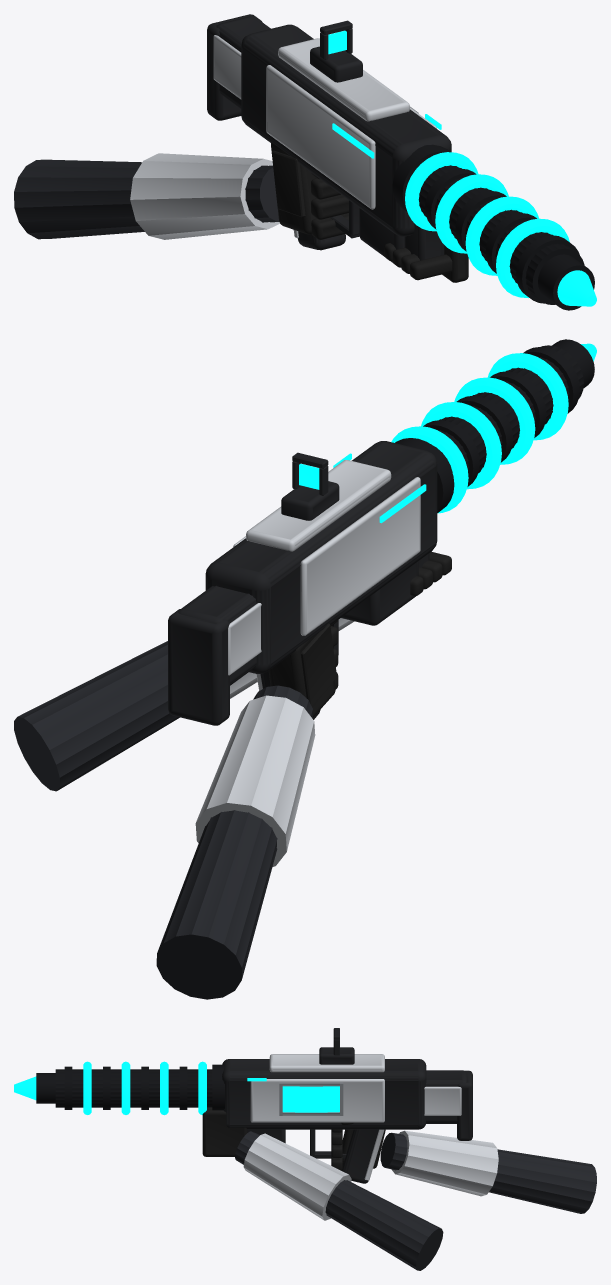
File: gun_pulse.glb
3 views of the same model, one above another, from view 1: azimuth 30°, elevation 25°; view 2: azimuth 150°, elevation 25°; view 3: azimuth 270°, elevation 25° (orthographic). The views are drawn at different scales.
Parts seen in each view (by area): view 1: Body, Armor_Plates, Forearm_R, Gauntlet_R, Barrel_Shroud, Glove_R, Glow_Accents, Glove_L, Ring_1, Ring_4, Ring_2, Ring_3; view 2: Body, Forearm_R, Armor_Plates, Forearm_L, Gauntlet_R, Barrel_Shroud, Glove_R, Ring_3, Ring_4, Ring_2, Ring_1, Glow_Accents (+1 smaller); view 3: Body, Armor_Plates, Barrel_Shroud, Forearm_L, Forearm_R, Gauntlet_R, Gauntlet_L, Glove_L, Screen, Glove_R, Screen_Bezel, Ring_3 (+4 smaller).
Part boxes in pixels (left/top/right/bottom): Body: left=207, top=14, right=451, bottom=262; Armor_Plates: left=213, top=35, right=436, bottom=238; Forearm_R: left=14, top=159, right=279, bottom=239; Gauntlet_R: left=130, top=153, right=279, bottom=239; Barrel_Shroud: left=392, top=144, right=594, bottom=310; Glove_R: left=271, top=142, right=348, bottom=239; Glow_Accents: left=328, top=30, right=596, bottom=306; Glove_L: left=384, top=243, right=468, bottom=282; Ring_1: left=405, top=152, right=478, bottom=231; Ring_4: left=496, top=218, right=569, bottom=298; Ring_2: left=435, top=174, right=508, bottom=253; Ring_3: left=465, top=196, right=538, bottom=275; Body: left=168, top=441, right=437, bottom=725; Forearm_R: left=156, top=685, right=312, bottom=999; Armor_Plates: left=228, top=460, right=420, bottom=690; Forearm_L: left=14, top=641, right=179, bottom=791; Gauntlet_R: left=195, top=695, right=315, bottom=866; Barrel_Shroud: left=395, top=339, right=594, bottom=512; Glove_R: left=268, top=620, right=338, bottom=717; Ring_3: left=454, top=377, right=535, bottom=464; Ring_4: left=488, top=353, right=568, bottom=440; Ring_2: left=421, top=402, right=501, bottom=489; Ring_1: left=391, top=426, right=468, bottom=513; Glow_Accents: left=299, top=343, right=596, bottom=523; Body: left=222, top=1028, right=472, bottom=1183; Armor_Plates: left=250, top=1054, right=461, bottom=1180; Barrel_Shroud: left=36, top=1064, right=224, bottom=1110; Forearm_L: left=235, top=1131, right=443, bottom=1270; Forearm_R: left=380, top=1132, right=596, bottom=1213; Gauntlet_R: left=391, top=1130, right=498, bottom=1196; Gauntlet_L: left=243, top=1133, right=351, bottom=1220; Glove_L: left=202, top=1107, right=247, bottom=1156; Screen: left=282, top=1086, right=339, bottom=1112; Glove_R: left=331, top=1122, right=385, bottom=1170; Screen_Bezel: left=279, top=1082, right=343, bottom=1115; Ring_3: left=121, top=1061, right=130, bottom=1114.
Bounding box in the file's own units: 0.3816 × 0.3597 × 0.9116.
